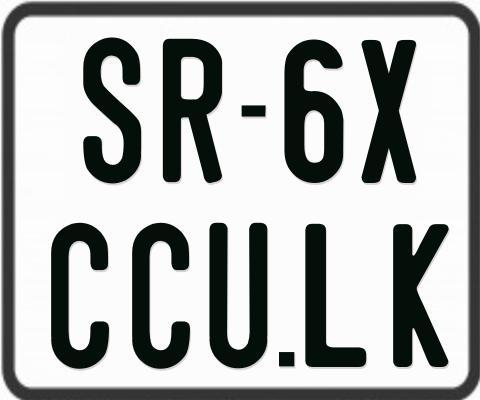6: (282, 37, 346, 185)
C: (48, 221, 111, 372), (129, 220, 187, 372)
K: (392, 224, 448, 369)
L: (303, 223, 366, 371)
R: (162, 37, 227, 187)
S: (82, 38, 143, 188)
U: (208, 220, 272, 367)
X: (362, 38, 422, 184)
